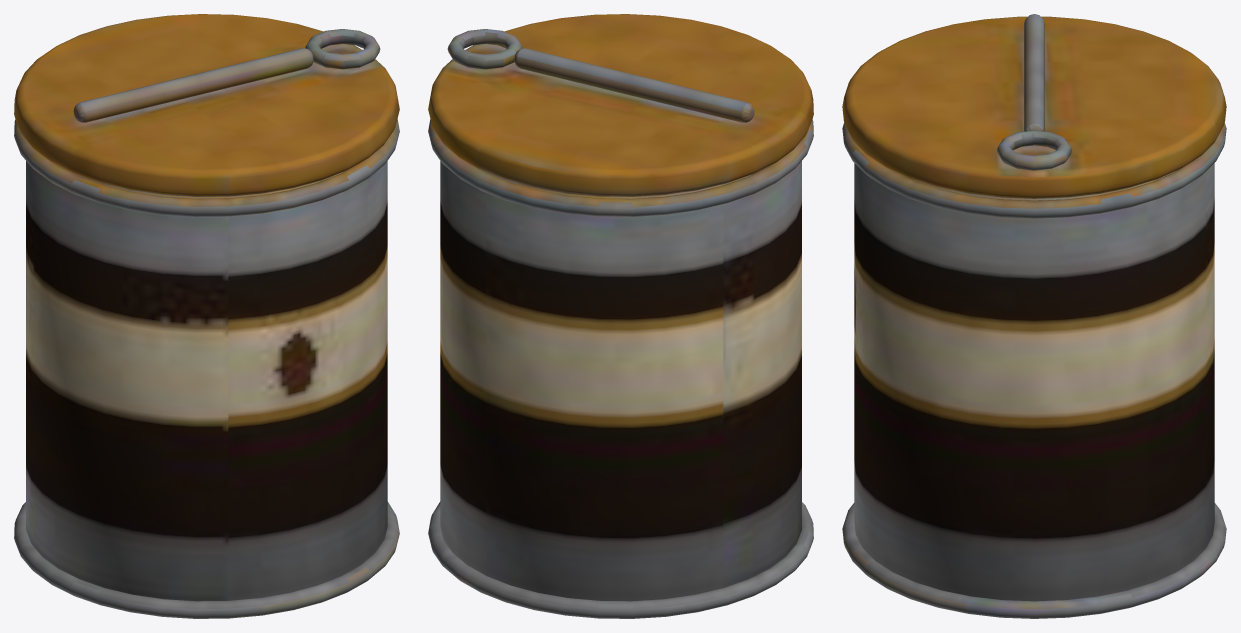
The model's file is coffee_tin.glb.
3 views of the same model, side by side, from view 1: azimuth 30°, elevation 25°; view 2: azimuth 150°, elevation 25°; view 3: azimuth 270°, elevation 25° (orthographic).
Visible parts, largest first — view 1: coffee_tin; view 2: coffee_tin; view 3: coffee_tin.
Boxes of the visible parts, x1,y1,x2,y2 form: coffee_tin: [14, 14, 399, 618]; coffee_tin: [428, 14, 813, 618]; coffee_tin: [842, 14, 1226, 618].
Bounding box in the file's own units: 0.1282 × 0.172 × 0.1279.
Materials: 1 (1 with a texture image).
